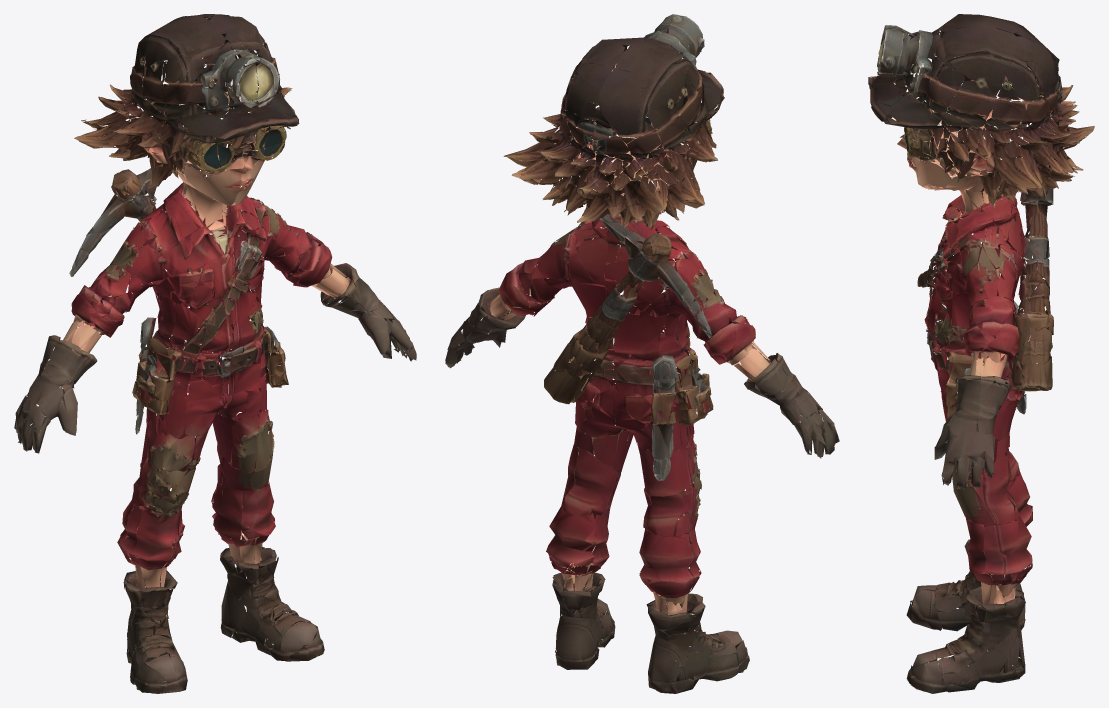
The model's file is avatar_male.glb.
The picture shows the model from 3 angles, left to right: view 1: azimuth 30°, elevation 25°; view 2: azimuth 150°, elevation 25°; view 3: azimuth 270°, elevation 25°; orthographic projection.
Visible parts, largest first — view 1: Mesh_0; view 2: Mesh_0; view 3: Mesh_0.
Boxes of the visible parts, x1,y1,x2,y2 form: Mesh_0: (14, 14, 416, 693); Mesh_0: (445, 14, 839, 693); Mesh_0: (868, 14, 1094, 693).
Bounding box in the file's own units: 1.22 × 1.91 × 0.6226.
1 material, 1 textured.
